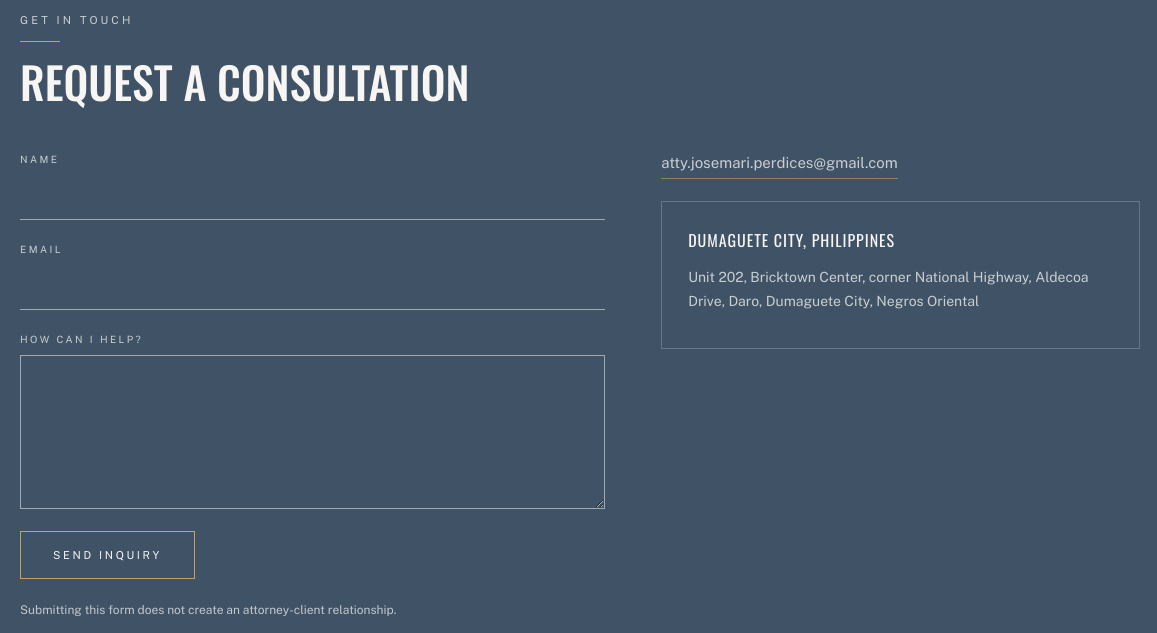
Scenario: Contact › shows an error message when delivery fails
This screenshot has width=1157, height=633.
Type "Maria Santos" into the field labelled "Name". click: (313, 197)
box: [20,175,605,220]
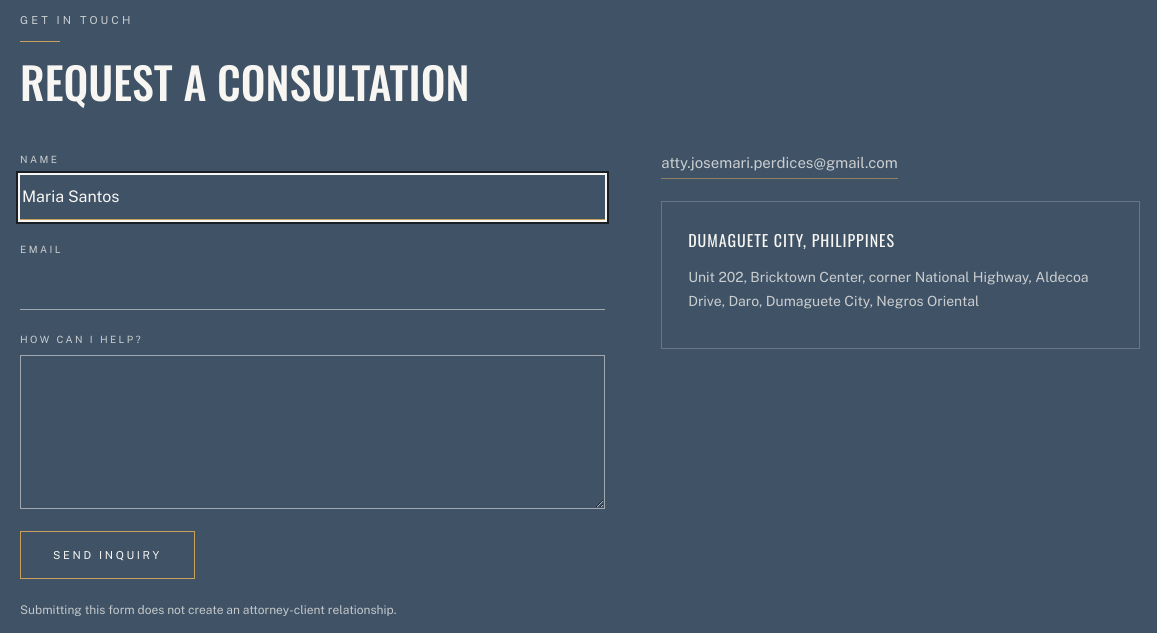
Type "maria@example.com" into the field labelled "Email". click: (313, 287)
box: [20,265,605,310]
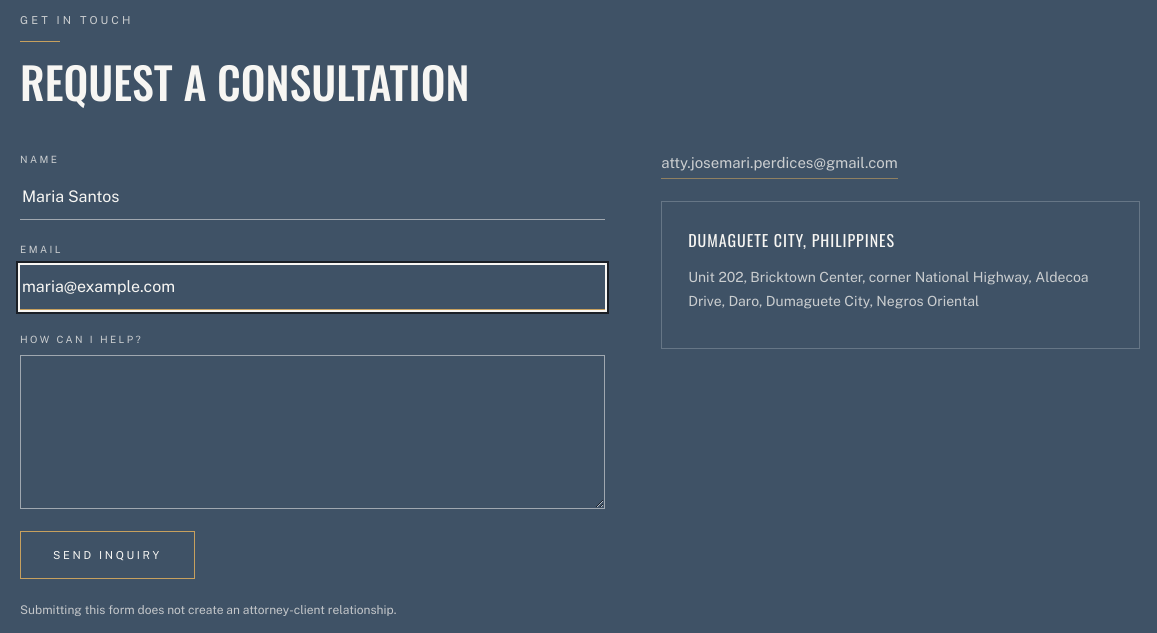
Type "I need help." into the text box labelled "How can I help?". click: (313, 432)
box: [20,355,605,509]
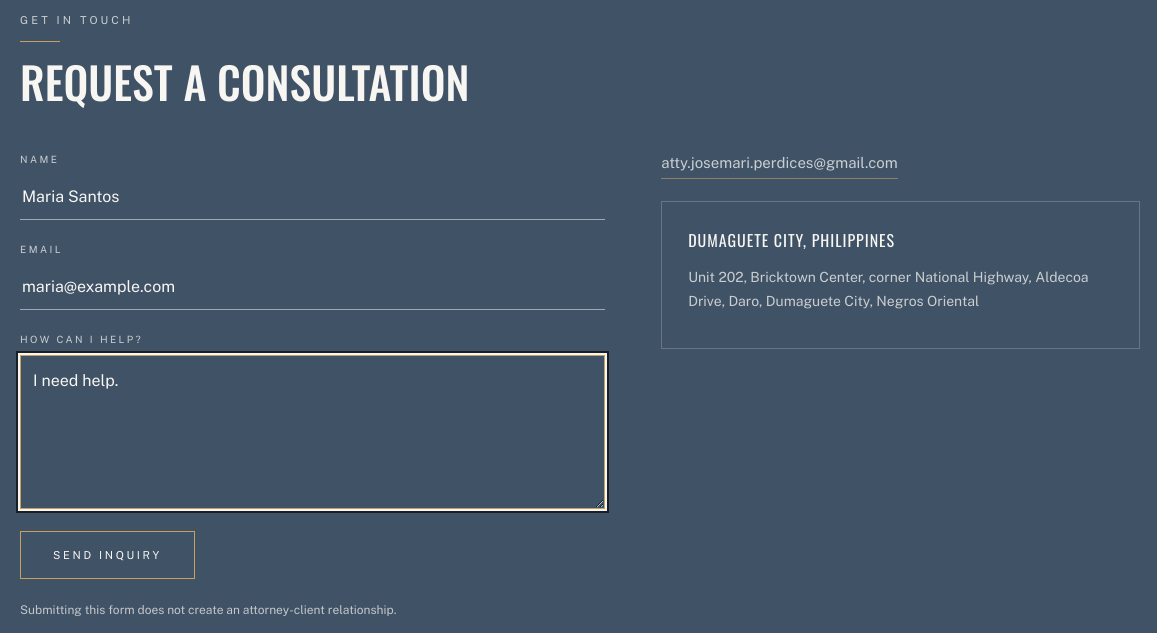
Click the button "Send inquiry". click: (107, 555)
box: [20,531,195,579]
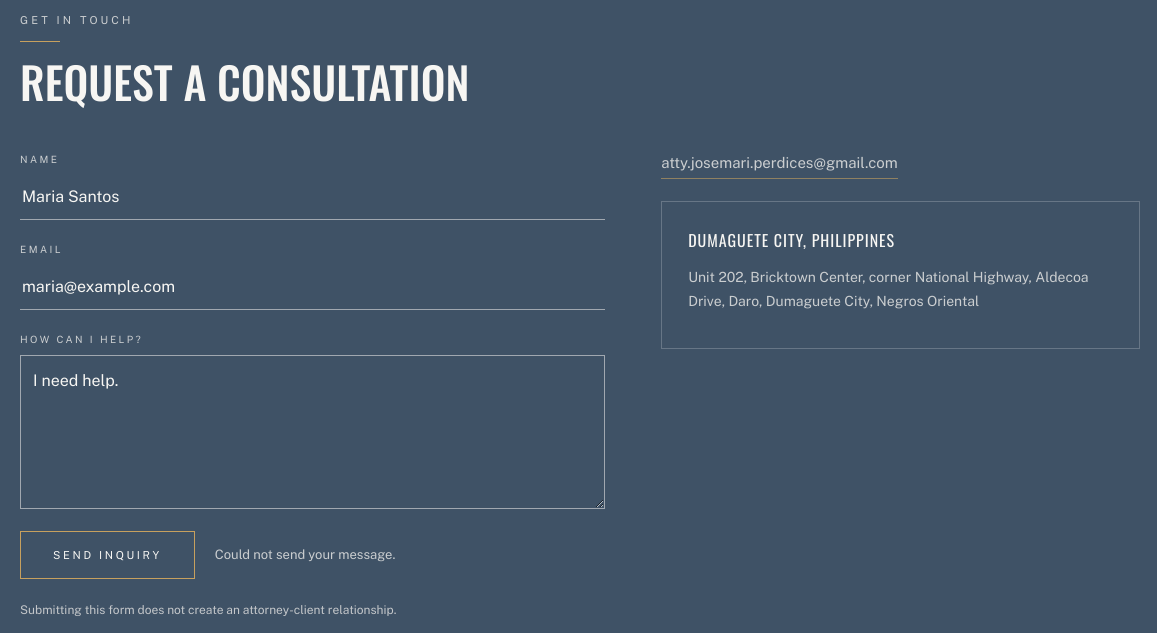
Expected: the message shows "Could not send your message", [215,547,395,562]
